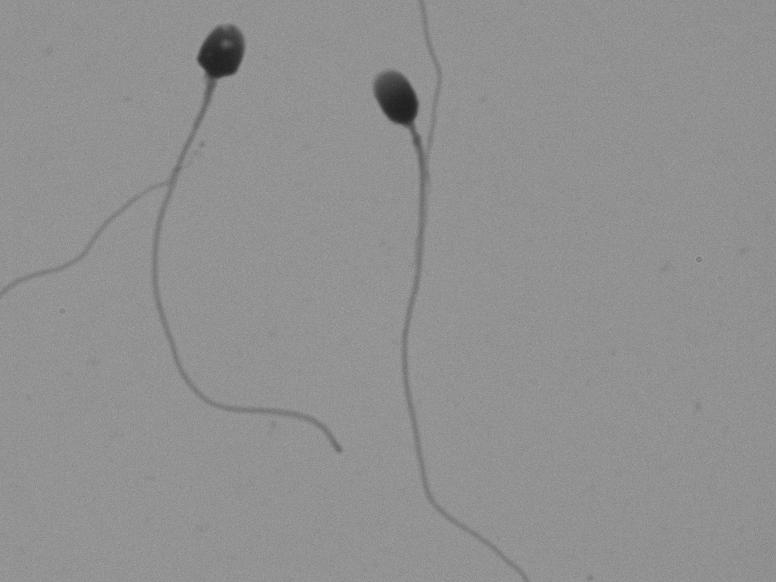Abnormal: (103, 13, 312, 443)
Normal: (350, 47, 509, 562)
